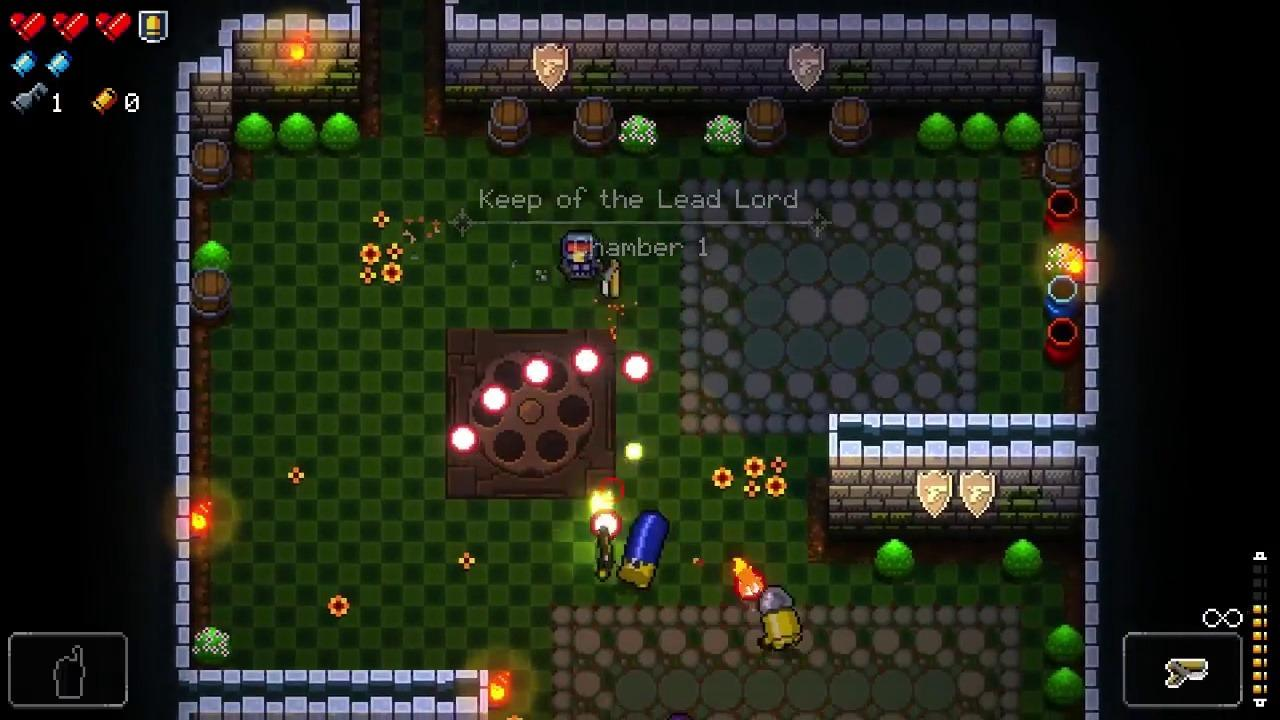blue_shotgun_kin: (616, 510, 672, 590)
bullet: (448, 424, 479, 456), (589, 510, 622, 538), (623, 351, 651, 381), (523, 357, 552, 385), (479, 386, 507, 415), (574, 346, 601, 375)
bullet_kin: (760, 587, 803, 650)
player: (558, 230, 599, 283)
teleporter: (445, 328, 617, 500)
